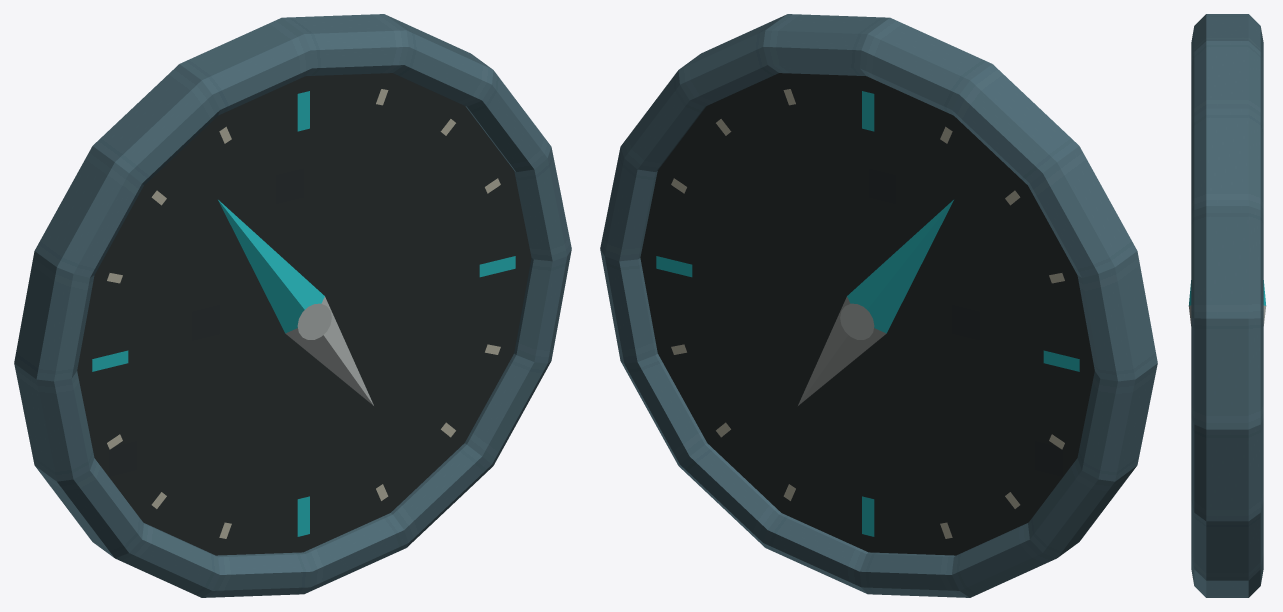
Rendered from recovery_compass_13.obj.
3 views of the same model, side by side, from view 1: azimuth 30°, elevation 25°; view 2: azimuth 150°, elevation 25°; view 3: azimuth 270°, elevation 25° (orthographic). The views are drawn at different scales.
Bounding box in the file's own units: 0.6037 × 0.6037 × 0.085.
